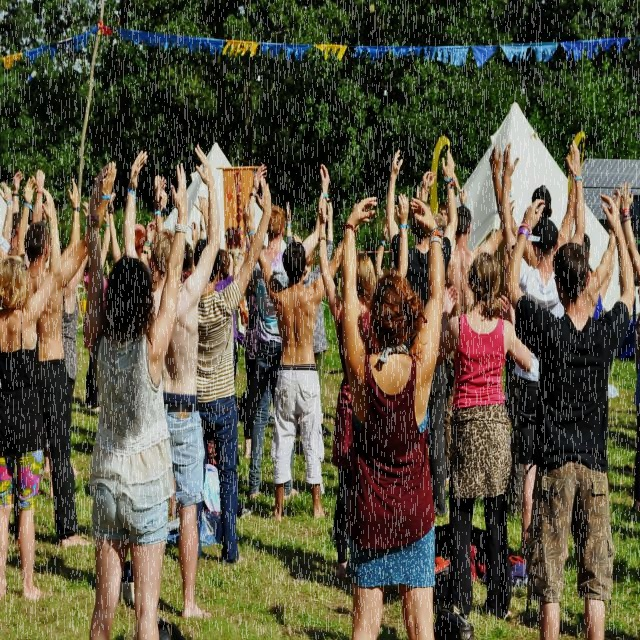pessoa: (501, 193, 639, 639), (85, 160, 189, 640), (338, 195, 450, 640), (122, 142, 222, 622), (241, 198, 370, 523), (13, 160, 118, 551), (432, 251, 534, 618), (316, 189, 411, 576), (486, 142, 578, 524), (241, 160, 336, 512), (383, 142, 463, 527), (196, 175, 274, 568), (0, 185, 61, 600), (442, 206, 504, 478), (421, 166, 524, 326), (40, 176, 85, 480), (282, 201, 337, 439), (128, 192, 242, 294), (510, 144, 584, 270), (583, 183, 640, 333), (85, 188, 121, 308), (2, 166, 39, 266), (242, 273, 260, 467), (79, 348, 101, 412), (437, 190, 452, 238), (234, 314, 238, 382)
